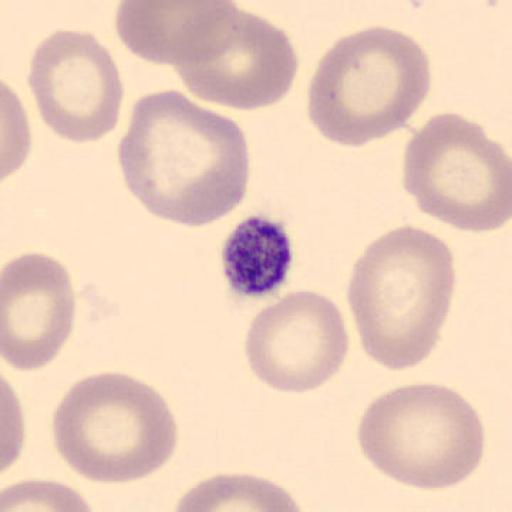Platelet: (217, 212, 296, 300)
RBC: (116, 87, 250, 230), (346, 224, 456, 372), (306, 24, 432, 148), (50, 370, 179, 486), (356, 381, 486, 492), (168, 4, 300, 112), (401, 110, 512, 237), (25, 26, 124, 145), (242, 287, 350, 396), (1, 251, 77, 371), (113, 0, 239, 66), (170, 471, 309, 512), (1, 476, 96, 512), (1, 79, 32, 182), (0, 376, 26, 476)
